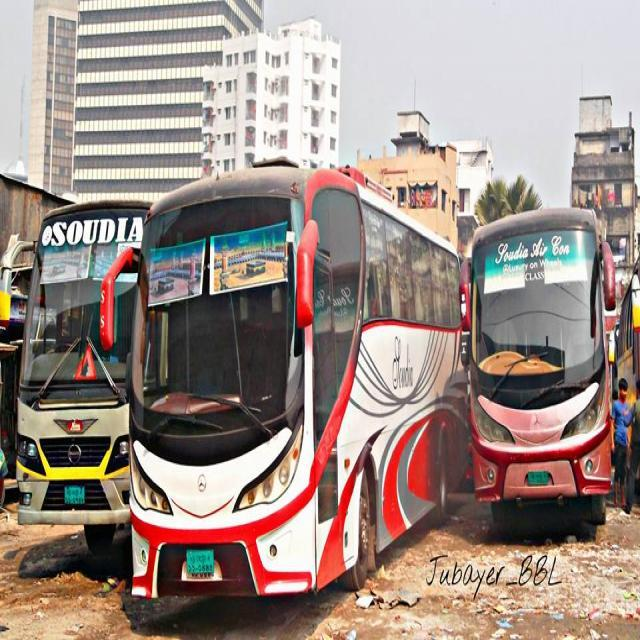bus: (97, 148, 470, 598), (458, 206, 617, 537)
